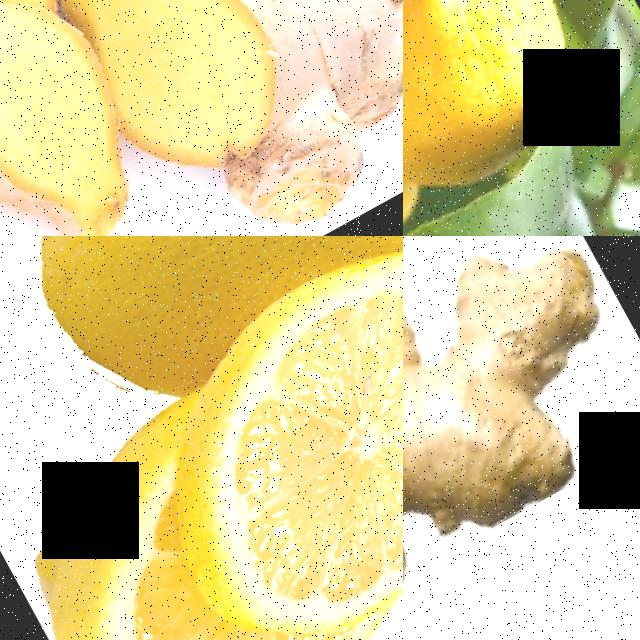ginger: (403, 236, 640, 640), (0, 0, 403, 236)
lemon: (125, 236, 403, 640), (0, 236, 403, 411), (0, 431, 295, 640), (403, 0, 610, 220)
